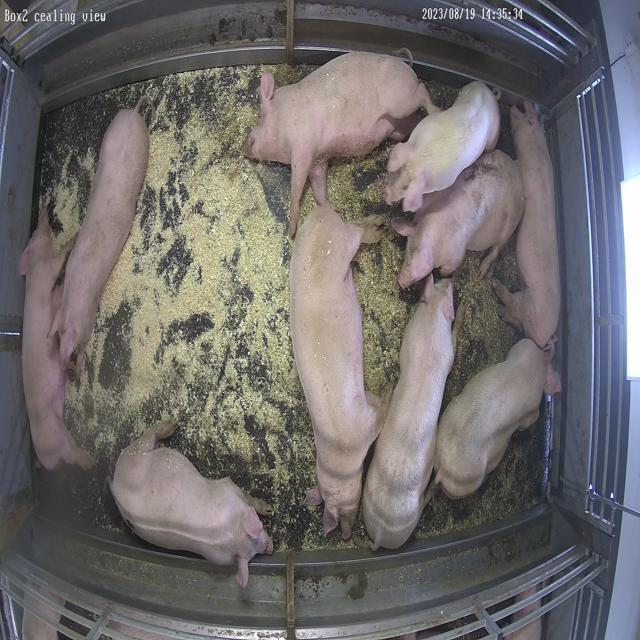Dirt: (329, 142, 421, 396), (414, 409, 549, 540), (443, 239, 522, 410), (432, 81, 459, 107)
Pig: (246, 52, 436, 236), (290, 207, 384, 540), (110, 423, 273, 588), (363, 275, 456, 550), (54, 99, 149, 366), (363, 275, 455, 550), (432, 340, 561, 499), (19, 209, 93, 470), (393, 150, 525, 288), (500, 101, 562, 350), (385, 81, 501, 212)
